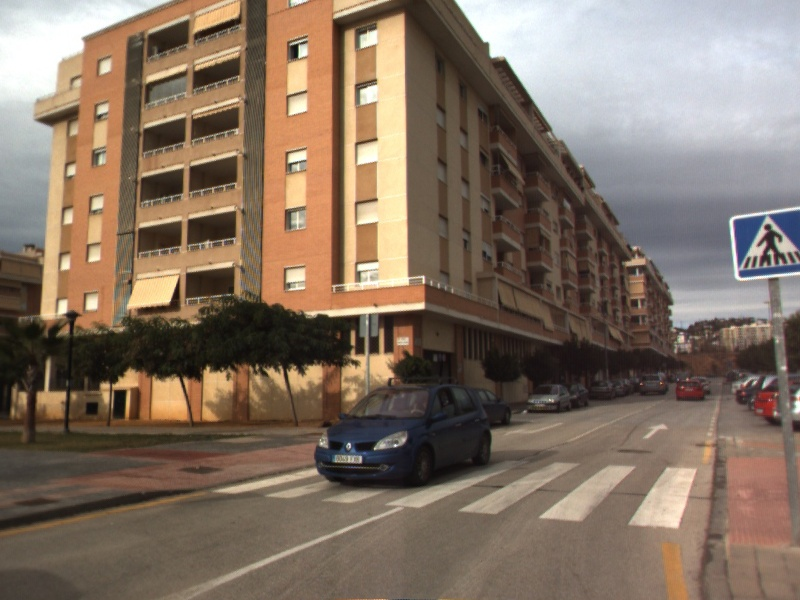STRAIGHT: (640, 421, 671, 441)
